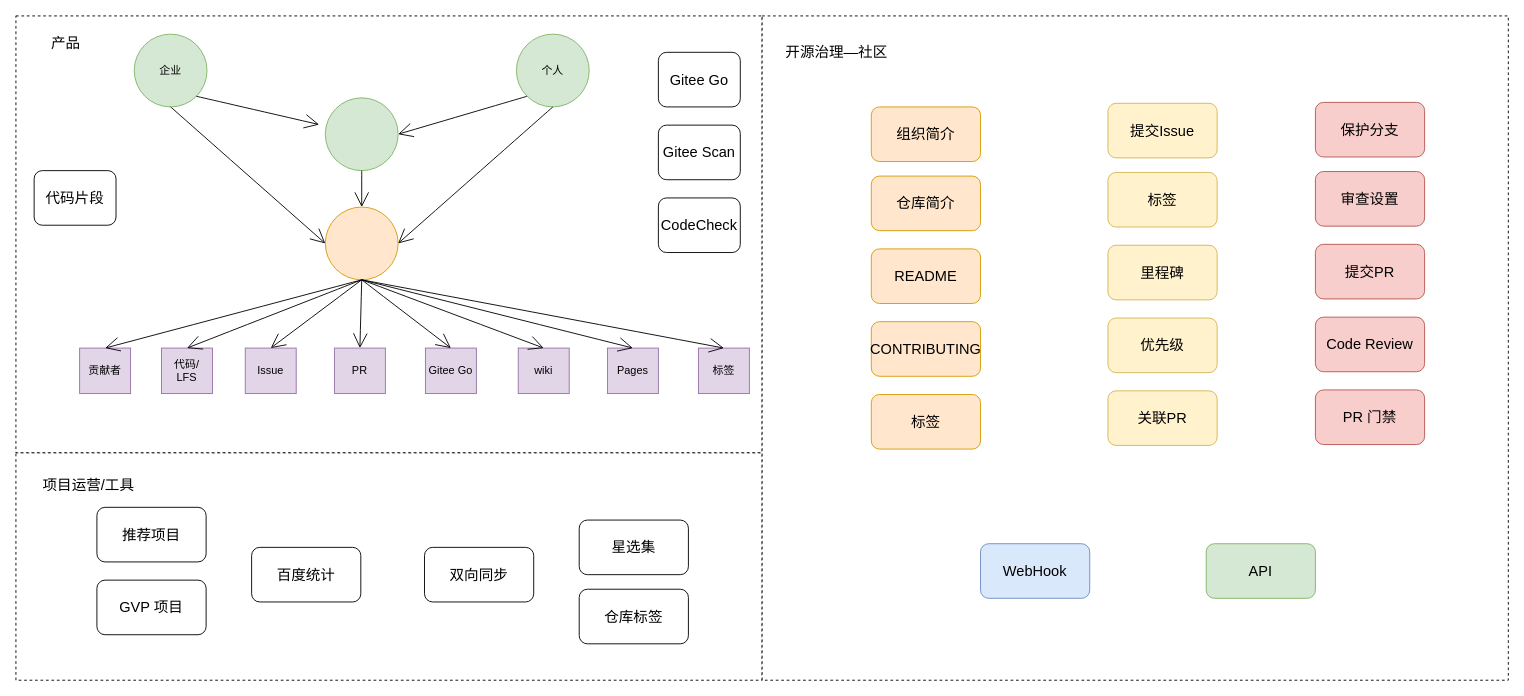
The diagram is 1524 pixels wide and 696 high, and some of its shapes have lost their labels. The box of each missing label's shape, as (x1, y1, x2, y2) in pixels:
仓库: (324, 206, 398, 280)
组织 (团队): (324, 97, 398, 171)
